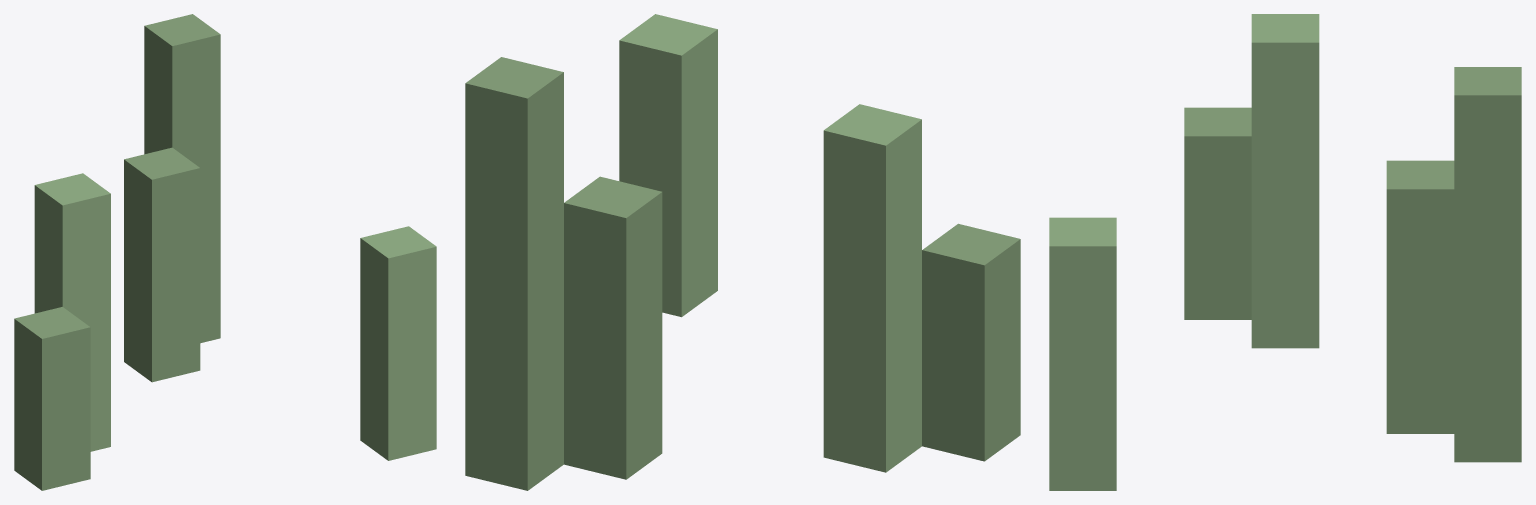
The model's file is esparrago_silvestre_01.glb.
3 views of the same model, side by side, from view 1: azimuth 30°, elevation 25°; view 2: azimuth 150°, elevation 25°; view 3: azimuth 270°, elevation 25° (orthographic). The views are drawn at different scales.
Visible parts, largest first — view 1: esparrago_silvestre_01; view 2: esparrago_silvestre_01; view 3: esparrago_silvestre_01.
Boxes of the visible parts, x1,y1,x2,y2 form: esparrago_silvestre_01: (14, 14, 436, 490); esparrago_silvestre_01: (465, 14, 1020, 490); esparrago_silvestre_01: (1049, 14, 1521, 490).
Bounding box in the file's own units: 0.7 × 0.6 × 0.7.
